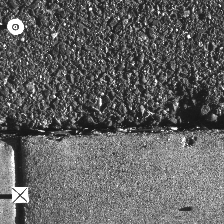circle: (7, 18, 24, 35)
crack: (1, 117, 223, 142)
square: (11, 187, 28, 202)
